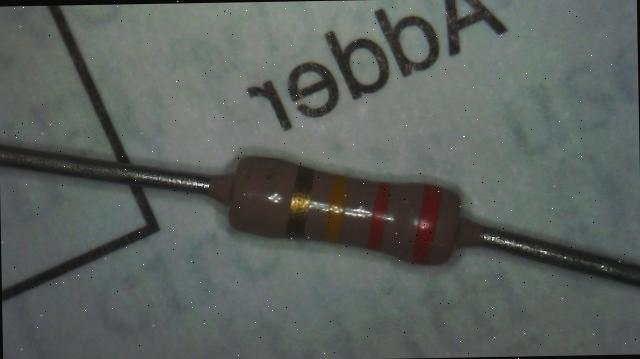gold: (286, 166, 316, 237)
orange: (412, 184, 443, 264), (367, 182, 392, 249)
resistor: (207, 132, 494, 292)
yellow: (325, 173, 350, 240)
